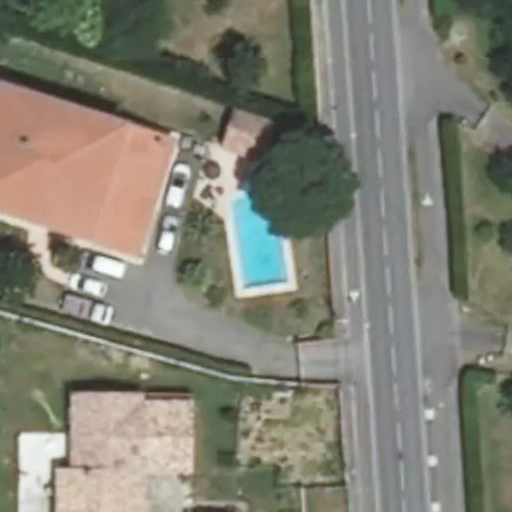pool: (226, 193, 283, 287)
